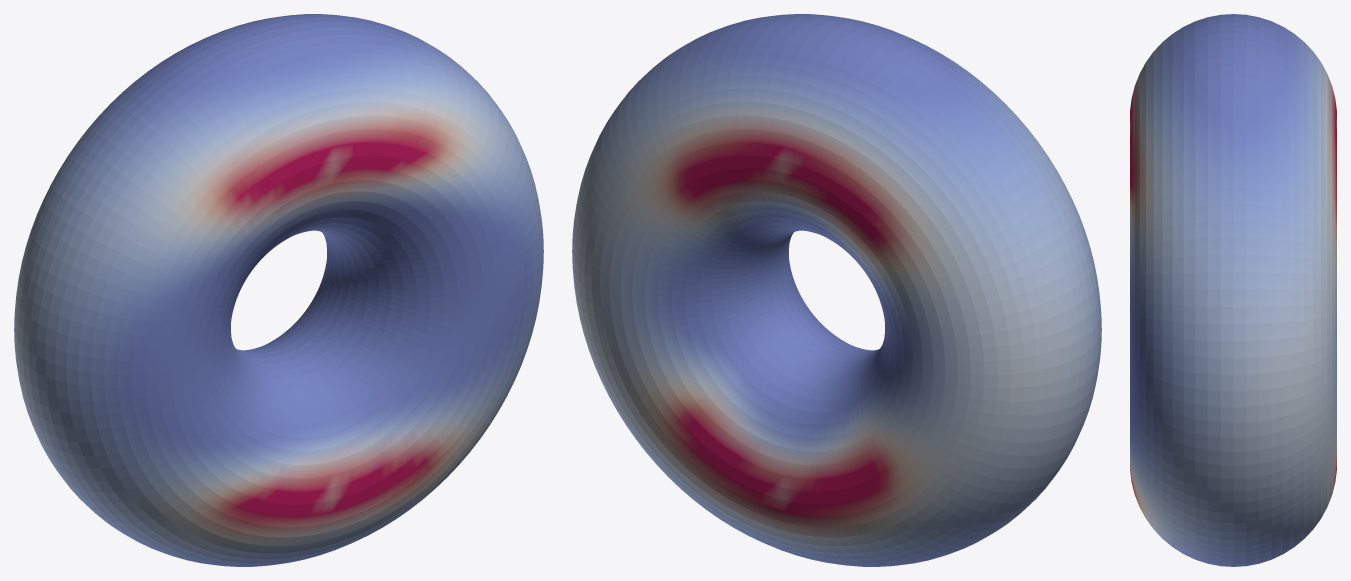
3 views of the same model, side by side, from view 1: azimuth 30°, elevation 25°; view 2: azimuth 150°, elevation 25°; view 3: azimuth 270°, elevation 25° (orthographic). The views are drawn at different scales.
Visible parts, largest first — view 1: world; view 2: world; view 3: world.
Boxes of the visible parts, left/top/right/bottom form: world: left=14, top=14, right=543, bottom=566; world: left=572, top=14, right=1101, bottom=566; world: left=1130, top=14, right=1336, bottom=566.
Bounding box in the file's own units: 16 × 16 × 5.99.
